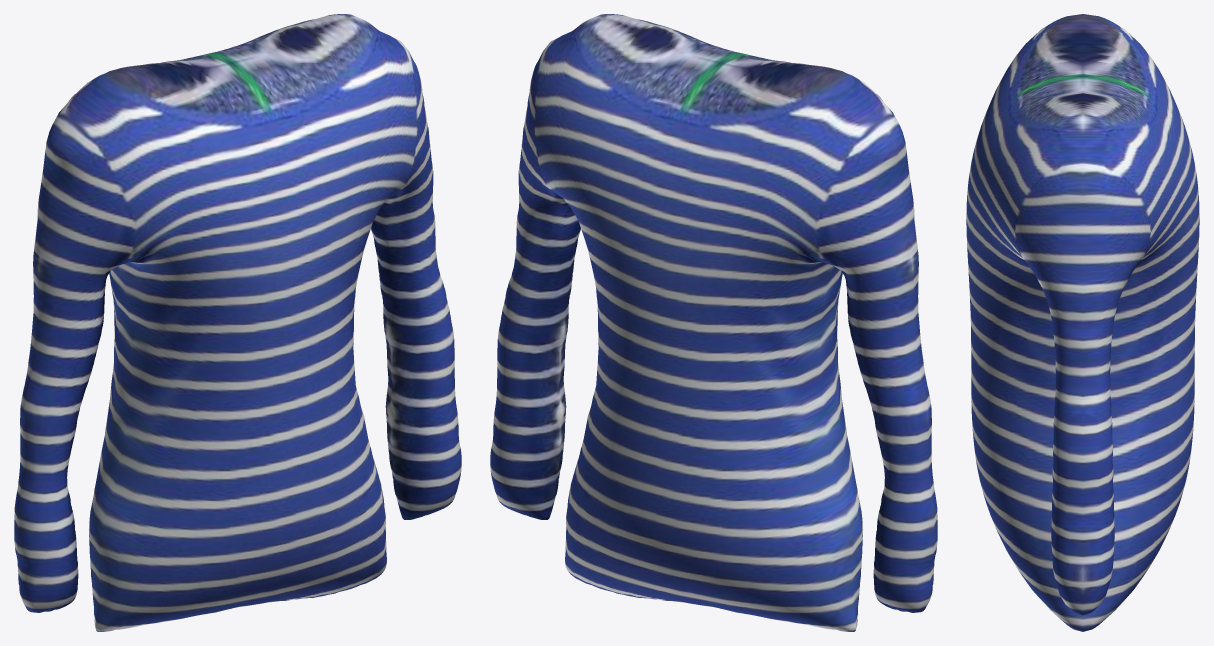
Rendered from 4BE21D09M-K11@10=cloth_front.glb.
The picture shows the model from 3 angles, left to right: view 1: azimuth 30°, elevation 25°; view 2: azimuth 150°, elevation 25°; view 3: azimuth 270°, elevation 25°; orthographic projection. The views are drawn at different scales.
Bounding box in the file's own units: 4.64 × 5.68 × 2.36.
Materials: 1 (1 with a texture image).
